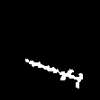double_crochet: (26, 59, 82, 87)
